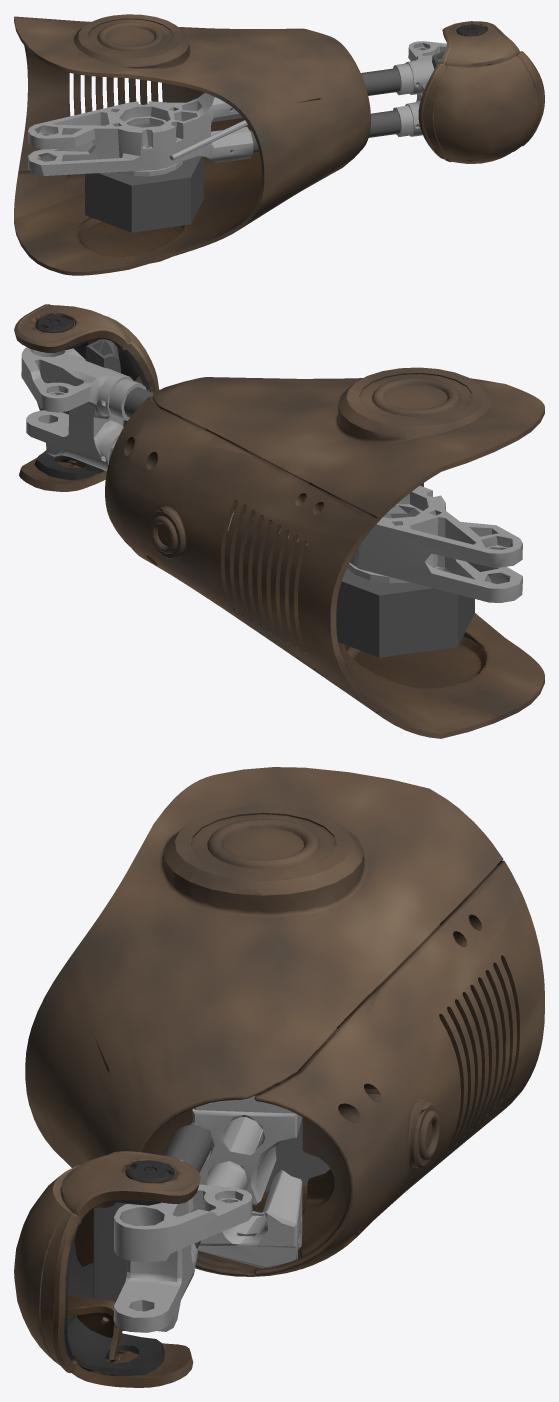
File: tibia_l.dae
The picture shows the model from 3 angles, top to bottom: view 1: azimuth 30°, elevation 25°; view 2: azimuth 150°, elevation 25°; view 3: azimuth 270°, elevation 25°; orthographic projection. The views are drawn at different scales.
Visible parts, largest first — view 1: tibia_r.001; view 2: tibia_r.001; view 3: tibia_r.001.
Boxes of the visible parts, bbox=[...] form: tibia_r.001: bbox=[14, 14, 544, 275]; tibia_r.001: bbox=[14, 304, 544, 738]; tibia_r.001: bbox=[14, 767, 544, 1387].
Bounding box in the file's own units: 0.3214 × 0.1966 × 0.1458.
Materials: 4 (1 with a texture image).
